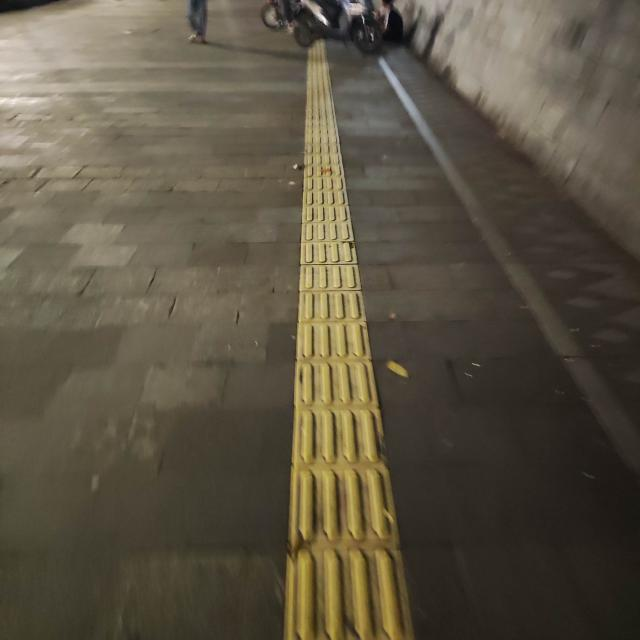lurus: (290, 111, 396, 640)
